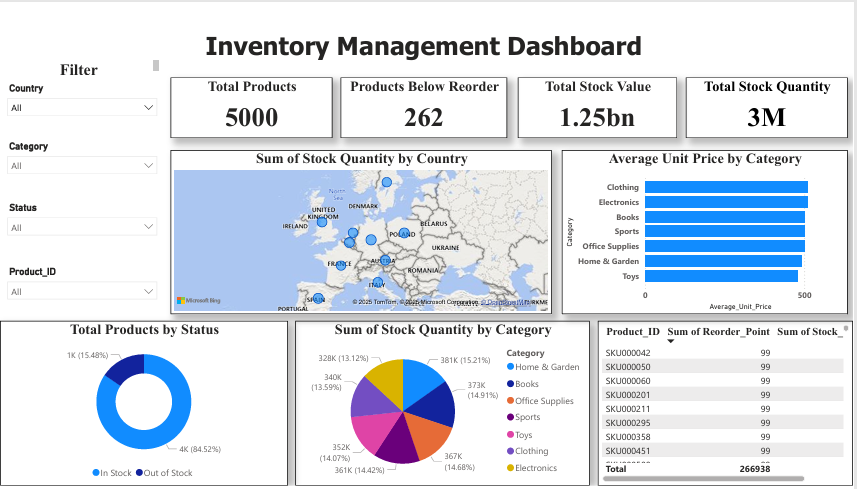

The page's visual inventory and layout, read from the dashboard file:
{"tool":"powerbi","page":{"name":"Page 1","canvas":[1280,720],"ordinal":0},"visuals":[{"type":"slicer","fields":{"Values":["Inventory.Country"]},"box":[1.5,111.2,244.7,86.7],"z":0,"group":"g1"},{"type":"card","title":"Total Stock Value","fields":{"Values":["Inventory.Total_Stock_Value"]},"box":[777.1,108.3,238.5,90.7],"z":0},{"type":"slicer","fields":{"Values":["Inventory.Category"]},"box":[1.5,197.9,244.7,92.1],"z":1000,"group":"g1"},{"type":"card","title":"Total Products","fields":{"Values":["Inventory.Total_Products"]},"box":[256.1,108.3,242.9,90.7],"z":1000},{"type":"card","title":"Products Below Reorder","fields":{"Values":["Inventory.Products_Below_Reorder"]},"box":[510.7,108.3,250.2,90.7],"z":2000},{"type":"slicer","fields":{"Values":["Inventory.Status"]},"box":[1.5,290,244.7,95.7],"z":2000,"group":"g1"},{"type":"card","title":"Total Stock Quantity","fields":{"Values":["Inventory.T_Stock_Quantity"]},"box":[1028.8,108.3,242.9,90.7],"z":3000},{"type":"slicer","fields":{"Values":["Inventory.Product_ID"]},"box":[1.5,385.7,244.7,75.9],"z":3000,"group":"g1"},{"type":"pieChart","title":"Sum of Stock Quantity by Category","fields":{"Category":["Inventory.Category"],"Y":["Sum(Inventory.Stock_Quantity)"]},"box":[443.4,472.7,442,247.3],"z":4000},{"type":"tableEx","fields":{"Values":["Inventory.Product_ID","Sum(Inventory.Reorder_Point)","Sum(Inventory.Stock_Quantity)"]},"box":[897.1,472.7,383.4,247.3],"z":5000},{"type":"map","title":"Sum of Stock Quantity by Country","fields":{"Category":["Inventory.Country"],"Size":["Sum(Inventory.Stock_Quantity)"]},"box":[256.1,216.6,572.2,245.9],"z":6000},{"type":"clusteredBarChart","title":"Average Unit Price by Category","fields":{"Category":["Inventory.Category"],"Y":["Inventory.Average_Unit_Price"]},"box":[842.9,216.6,428.8,245.9],"z":7000},{"type":"donutChart","title":"Total Products by Status","fields":{"Category":["Inventory.Status"],"Y":["Inventory.Total_Products"]},"box":[0,472.7,431.7,247.3],"z":8000},{"type":"group","id":"g1","title":"Group 1","box":[1.5,111.2,244.4,351.2],"z":10000},{"type":"textbox","box":[1.3,15.9,1270,73.1],"z":10002},{"type":"textbox","box":[0,77.6,244.4,30.7],"z":10003}]}

Visuals, with their boxes in screenshot pixels (x1, y1, x2, y2), scaled from the page's 1280x720 canvas onto the 857x489 screenshot:
slicer - Inventory.Country: {"left": 1, "top": 76, "right": 165, "bottom": 134}
"Total Stock Value" card: {"left": 520, "top": 74, "right": 680, "bottom": 135}
slicer - Inventory.Category: {"left": 1, "top": 134, "right": 165, "bottom": 197}
"Total Products" card: {"left": 171, "top": 74, "right": 334, "bottom": 135}
"Products Below Reorder" card: {"left": 342, "top": 74, "right": 509, "bottom": 135}
slicer - Inventory.Status: {"left": 1, "top": 197, "right": 165, "bottom": 262}
"Total Stock Quantity" card: {"left": 689, "top": 74, "right": 851, "bottom": 135}
slicer - Inventory.Product_ID: {"left": 1, "top": 262, "right": 165, "bottom": 314}
"Sum of Stock Quantity by Category" pieChart: {"left": 297, "top": 321, "right": 593, "bottom": 488}
tableEx - Inventory.Product_ID x Sum(Inventory.Reorder_Point): {"left": 601, "top": 321, "right": 856, "bottom": 488}
"Sum of Stock Quantity by Country" map: {"left": 171, "top": 147, "right": 555, "bottom": 314}
"Average Unit Price by Category" clusteredBarChart: {"left": 564, "top": 147, "right": 851, "bottom": 314}
"Total Products by Status" donutChart: {"left": 0, "top": 321, "right": 289, "bottom": 488}
"Group 1" group: {"left": 1, "top": 76, "right": 165, "bottom": 314}
textbox: {"left": 1, "top": 11, "right": 851, "bottom": 60}
textbox: {"left": 0, "top": 53, "right": 164, "bottom": 74}
